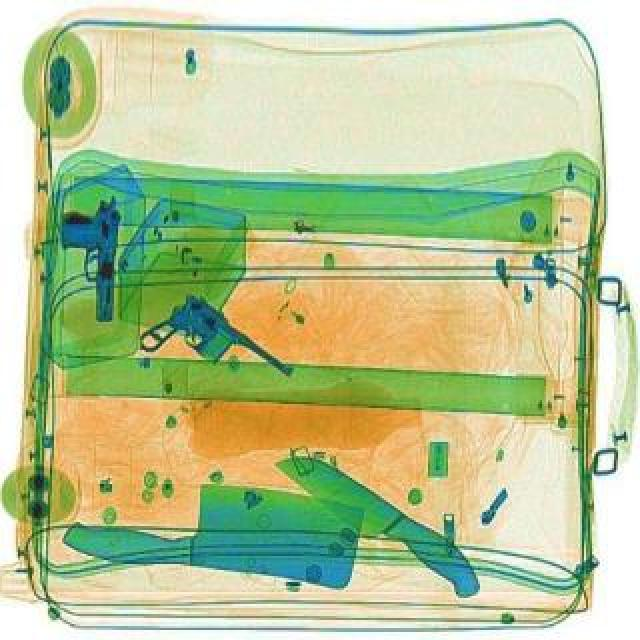gun: (132, 282, 296, 422), (56, 196, 122, 322)
knife: (262, 436, 496, 602), (60, 466, 364, 590)
